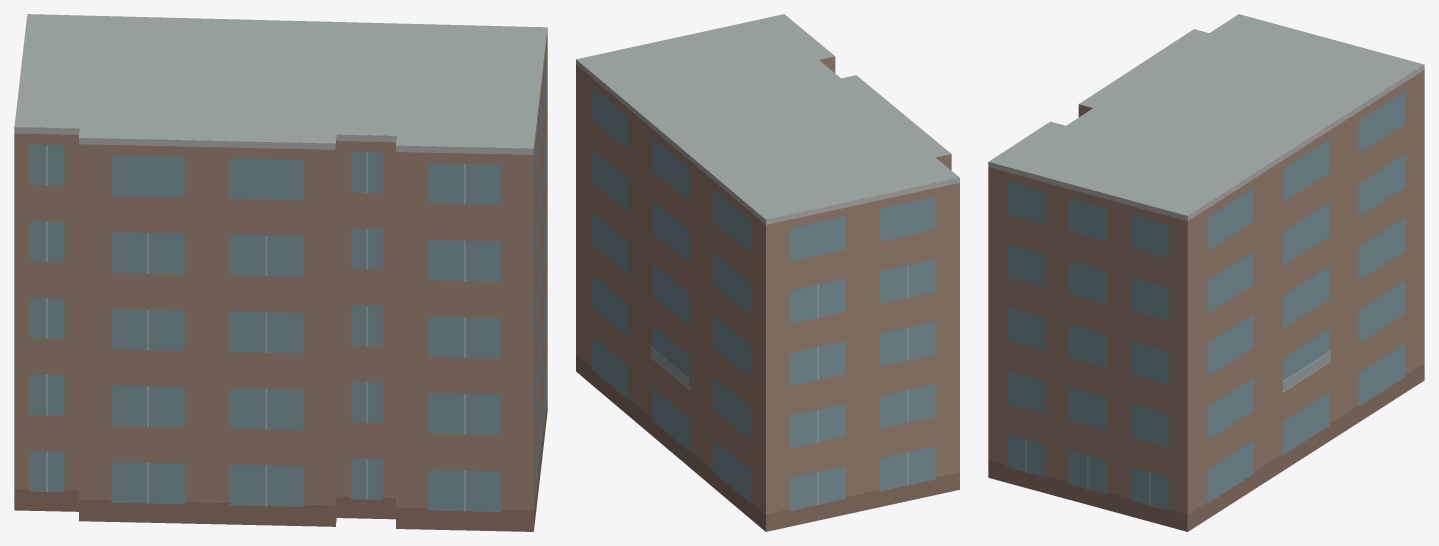
Rendered from survey-upis-32791834.glb.
3 views of the same model, side by side, from view 1: azimuth 30°, elevation 25°; view 2: azimuth 150°, elevation 25°; view 3: azimuth 270°, elevation 25° (orthographic). The views are drawn at different scales.
Parts seen in each view (by area): view 1: survey-upis-32791834.tmp; view 2: survey-upis-32791834.tmp; view 3: survey-upis-32791834.tmp.
Part boxes in pixels (x1,y1,x2,y2): survey-upis-32791834.tmp: (14,14,547,531); survey-upis-32791834.tmp: (576,14,959,531); survey-upis-32791834.tmp: (988,14,1424,531).
Bounding box in the file's own units: 20.17 × 14.7 × 18.4.
